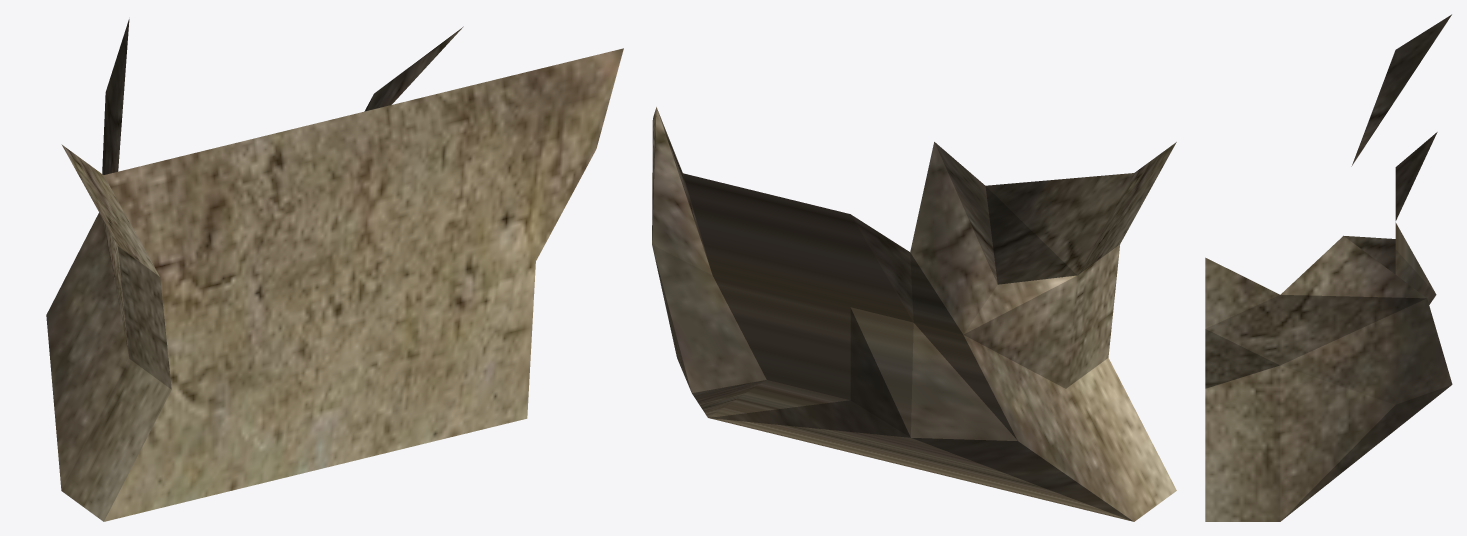
3 views of the same model, side by side, from view 1: azimuth 30°, elevation 25°; view 2: azimuth 150°, elevation 25°; view 3: azimuth 270°, elevation 25° (orthographic). The views are drawn at different scales.
Visible parts, largest first — view 1: model_Object44; view 2: model_Object44; view 3: model_Object44.
Boxes of the visible parts, <box> form: model_Object44: <box>46,19,623,521</box>; model_Object44: <box>652,107,1176,521</box>; model_Object44: <box>1205,14,1452,521</box>.
Bounding box in the file's own units: 4.73 × 3.42 × 2.2.
1 material, 1 textured.
